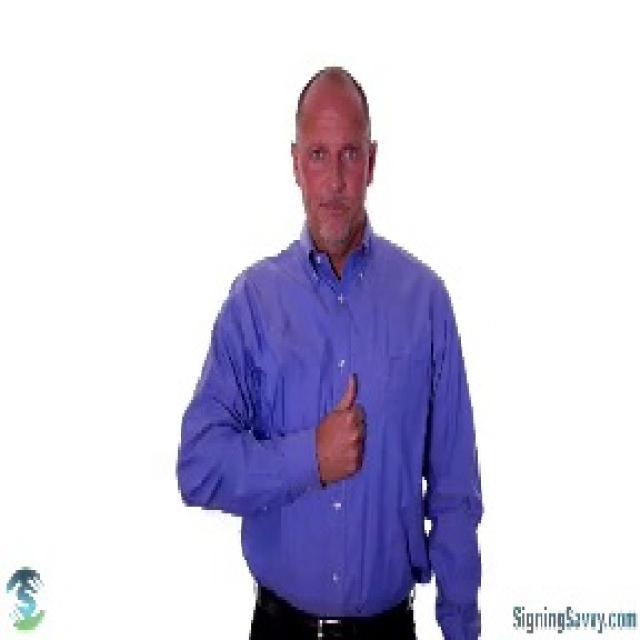sorry: (306, 370, 371, 483)
